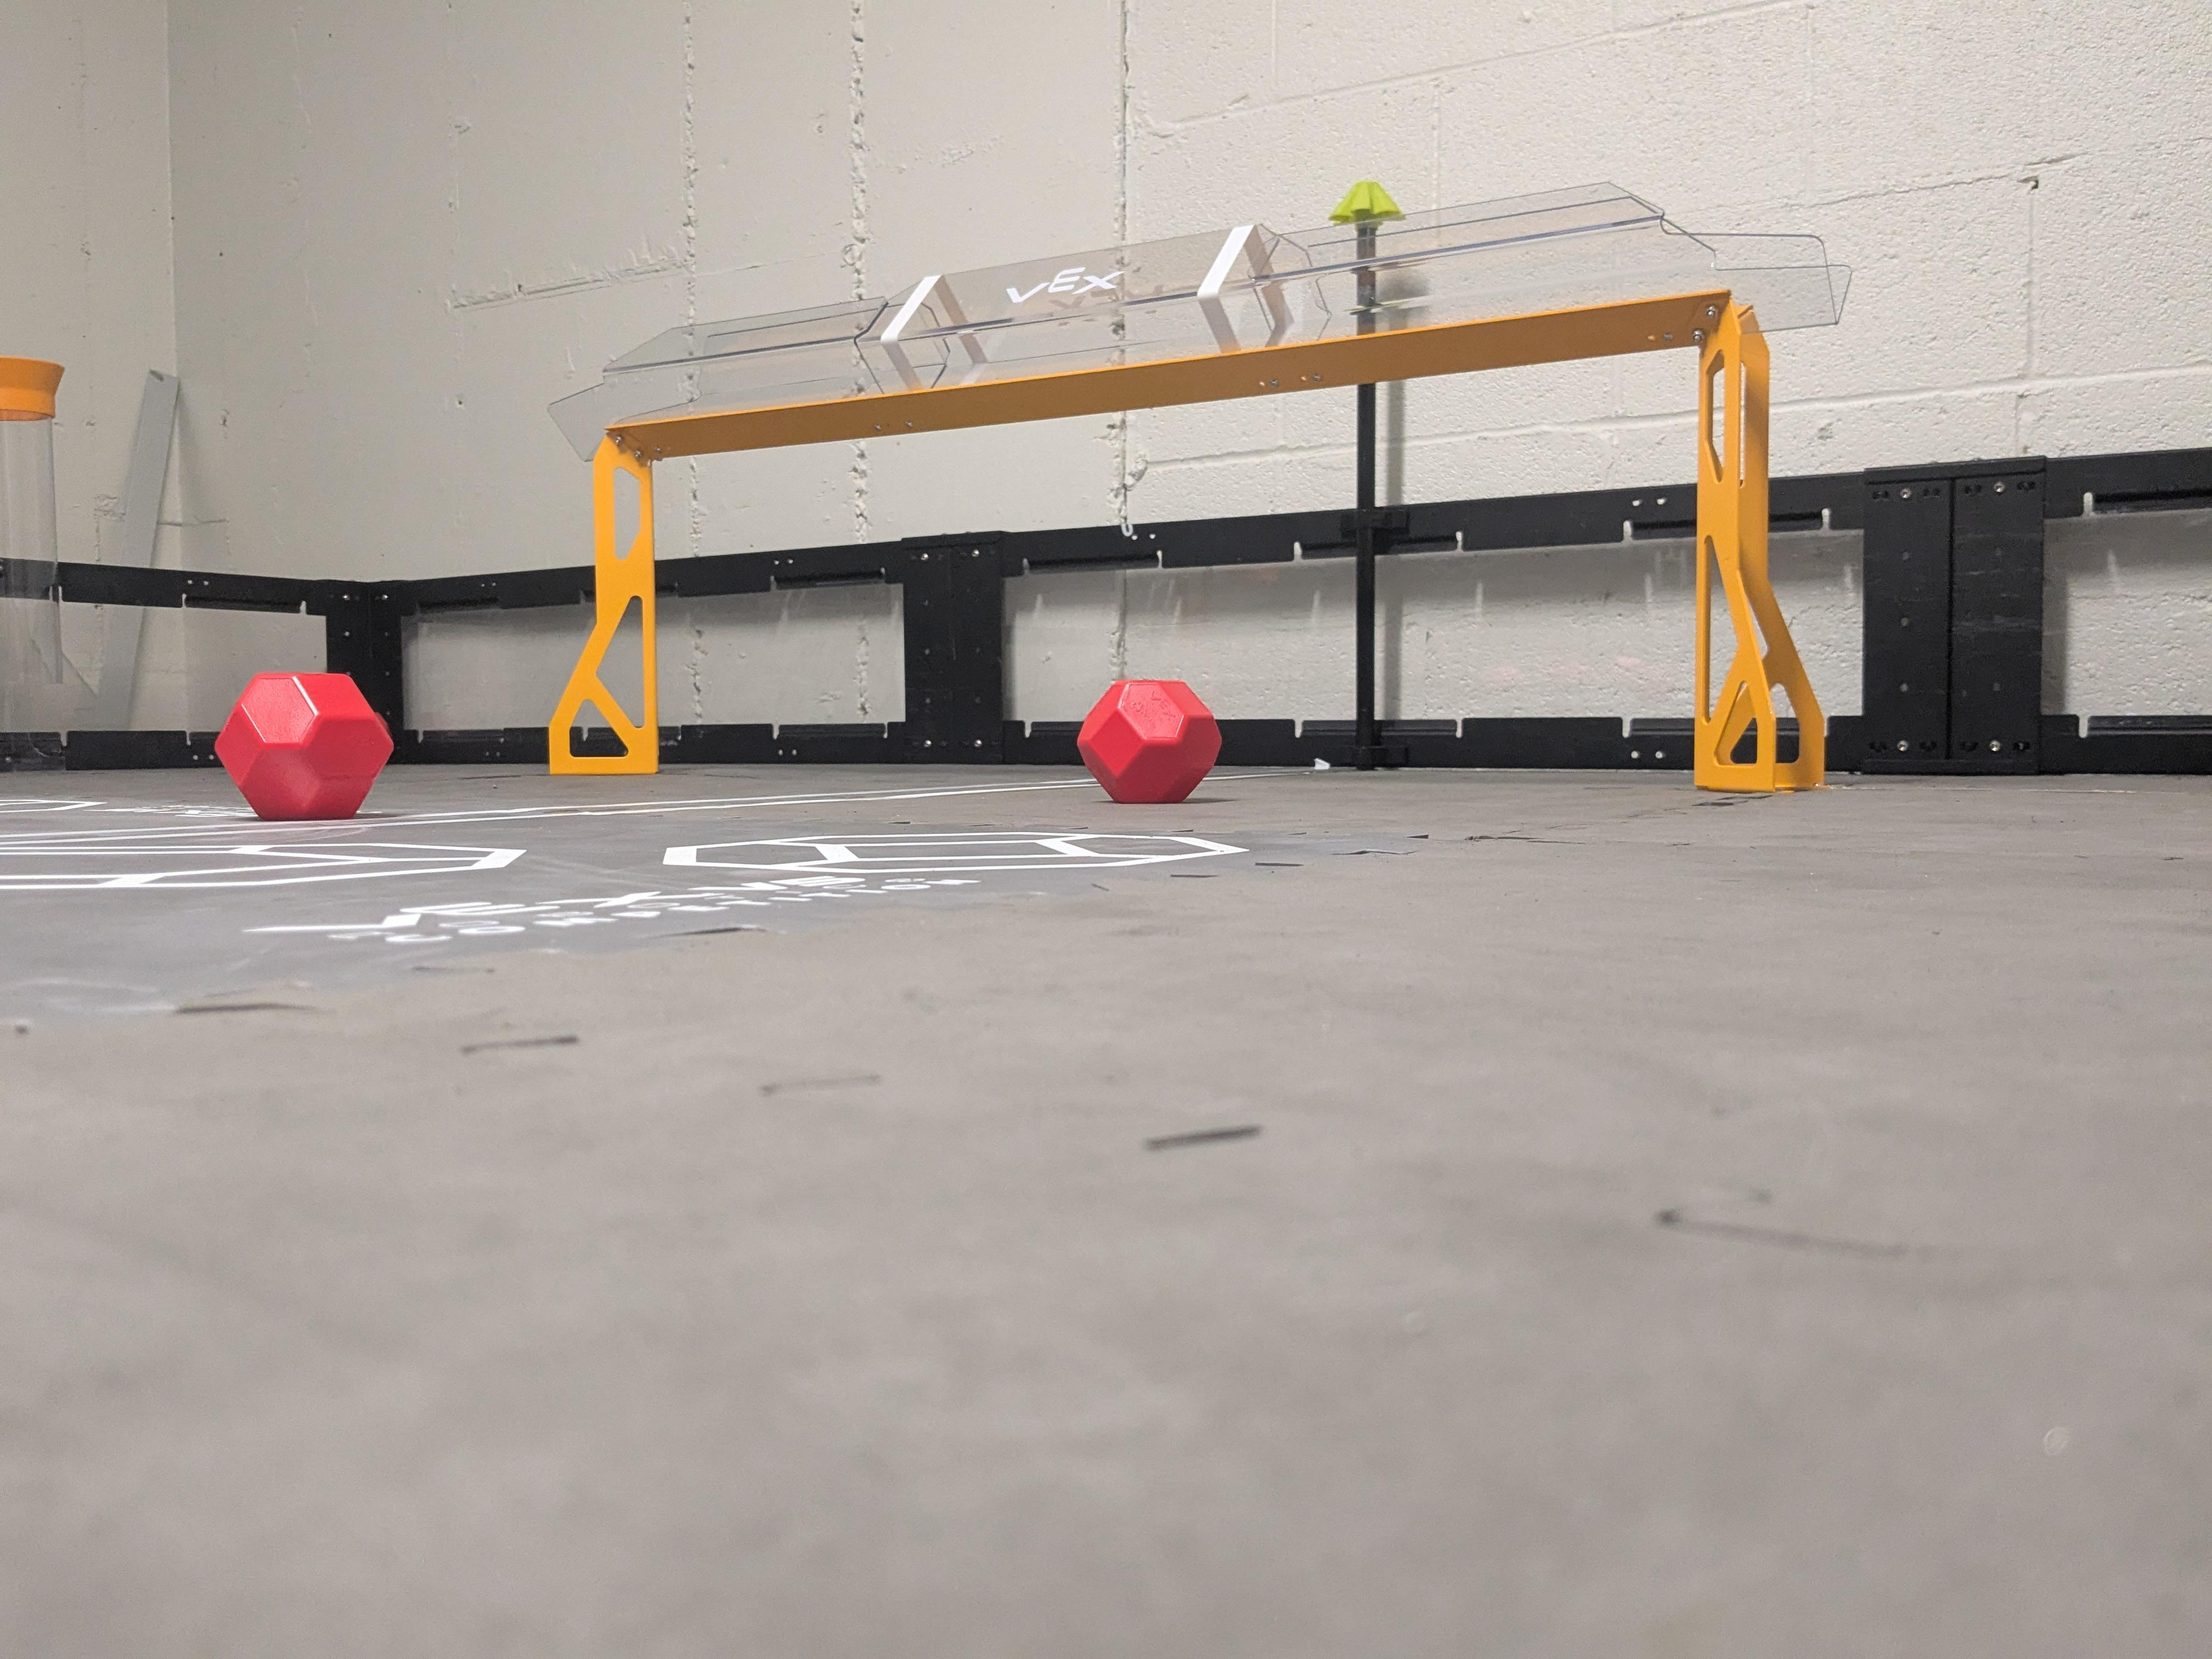Vex-Pieces-RED: (221, 673, 390, 816), (1076, 680, 1221, 803)
